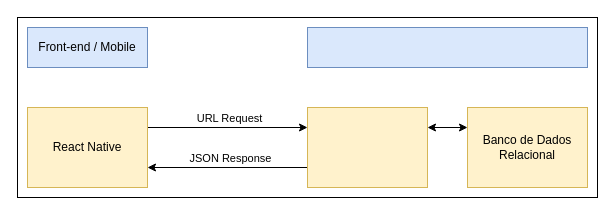
The diagram is 615 pixels wide and 215 high, and some of its shapes have lost their labels. The centre of each missing label's shape, as x and y in pixels:
"Aplicação C# .NET" belongs at point (367, 147).
"Back End - Servidores Azure" belongs at point (447, 47).
